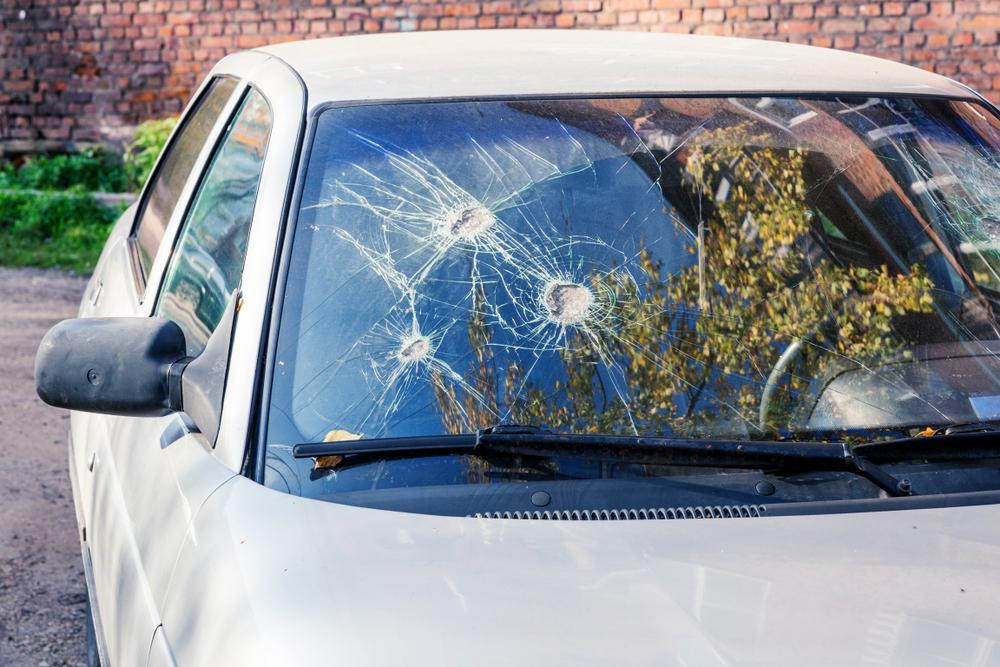glass shatter: (263, 96, 1000, 515)
